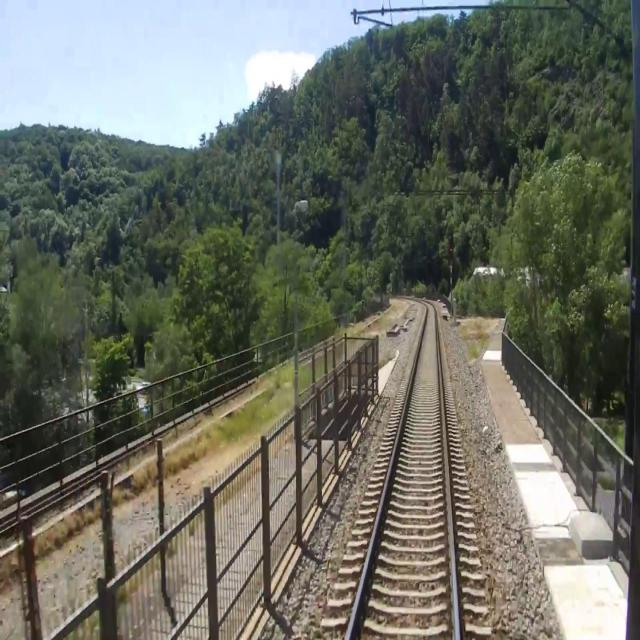rail-track: (350, 303, 454, 639)
